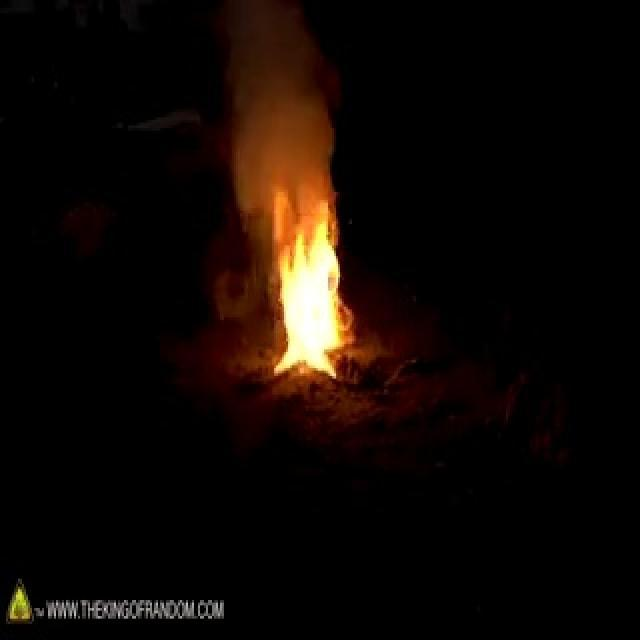fire: (245, 153, 361, 444)
